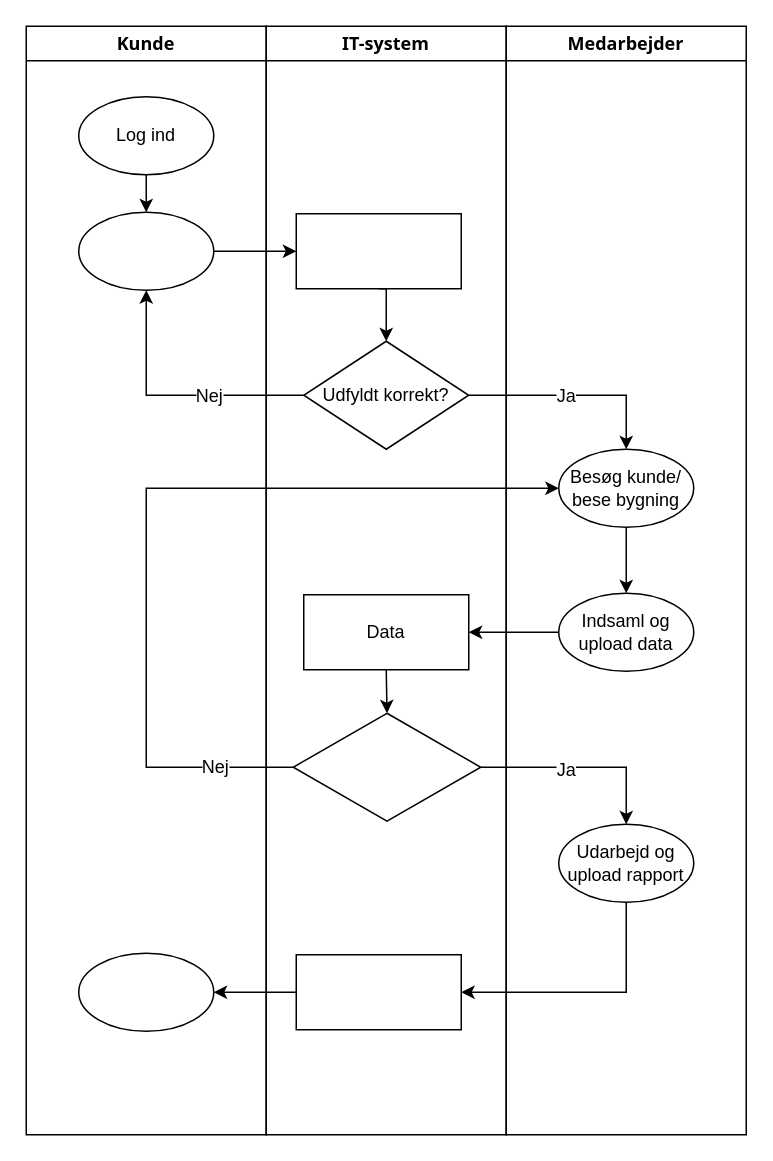
Image size: 773x1161. Some labels were removed from this diagram. Each missing label, with the centre of its shape:
"Læs rapport" goes at point 145,991.
"Nødvendig information indsamlet?" goes at point 386,766.
"Rapport" goes at point 378,991.
"Serviceanmodning" goes at point 378,250.
"Udfyld formular" goes at point 145,250.
